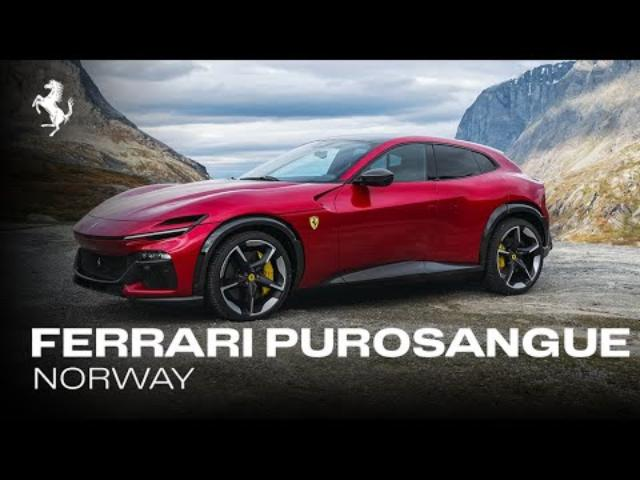ferrari: (70, 132, 554, 320)
